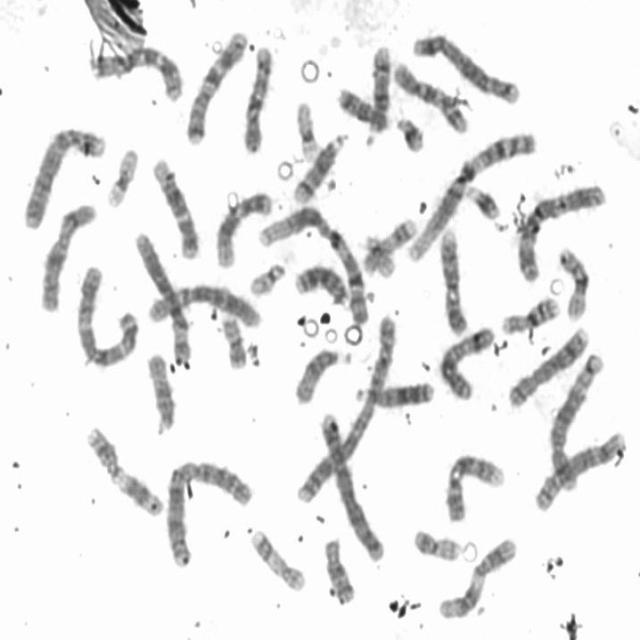A1: (404, 127, 539, 266), (254, 202, 374, 327)
A2: (291, 307, 400, 508), (161, 452, 255, 570)
A3: (512, 178, 609, 284), (72, 259, 141, 369)
B4: (315, 407, 386, 563), (20, 120, 109, 232)
B5: (545, 348, 607, 496), (409, 28, 523, 106)
C10: (388, 54, 470, 135), (239, 41, 276, 155)
C11: (81, 420, 167, 519), (434, 532, 519, 621)
C12: (148, 152, 202, 260), (212, 185, 276, 269)
C6: (130, 227, 194, 368), (143, 278, 263, 332)
C7: (182, 26, 249, 146), (86, 41, 186, 102)
C8: (532, 426, 629, 514), (503, 318, 592, 411)
C9: (441, 446, 508, 523), (438, 225, 470, 337)
D13: (349, 376, 437, 411), (292, 259, 351, 307)
D14: (289, 126, 350, 206), (361, 38, 394, 148)
D15: (292, 342, 354, 407), (142, 346, 178, 435)
E16: (552, 240, 592, 323), (498, 291, 562, 335)
E17: (246, 523, 308, 593), (358, 212, 419, 278)
E18: (332, 82, 392, 134), (320, 533, 357, 604)
F19: (102, 141, 141, 209), (292, 94, 324, 162)
F20: (409, 522, 464, 563), (218, 310, 248, 369)
G21: (460, 178, 502, 222), (392, 111, 426, 156)
G22: (359, 230, 398, 279), (246, 256, 288, 298)
X: (36, 197, 100, 315), (434, 321, 497, 401)
